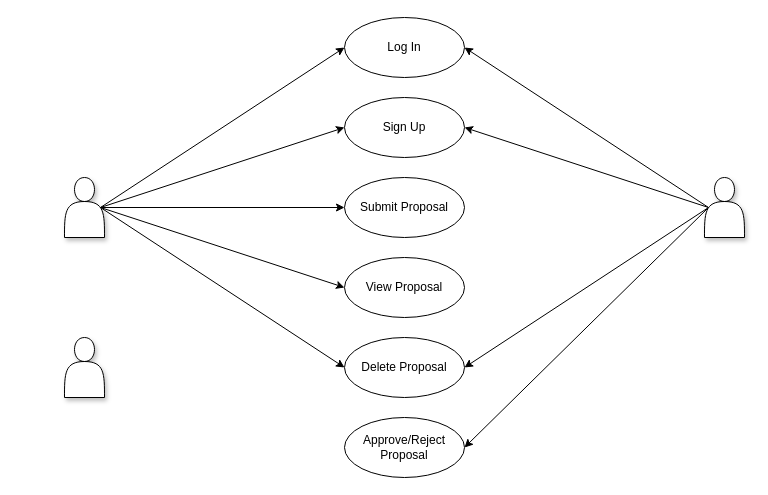
Image size: 768x495. Some labels were removed from this diagram. Here are the shapes that lost their labels. From the top down, the centre of each, then its label:
At pixel 85 208: "Student/Teacher/Sponsor".
At pixel 725 208: "Panelist".
At pixel 85 368: "System".
